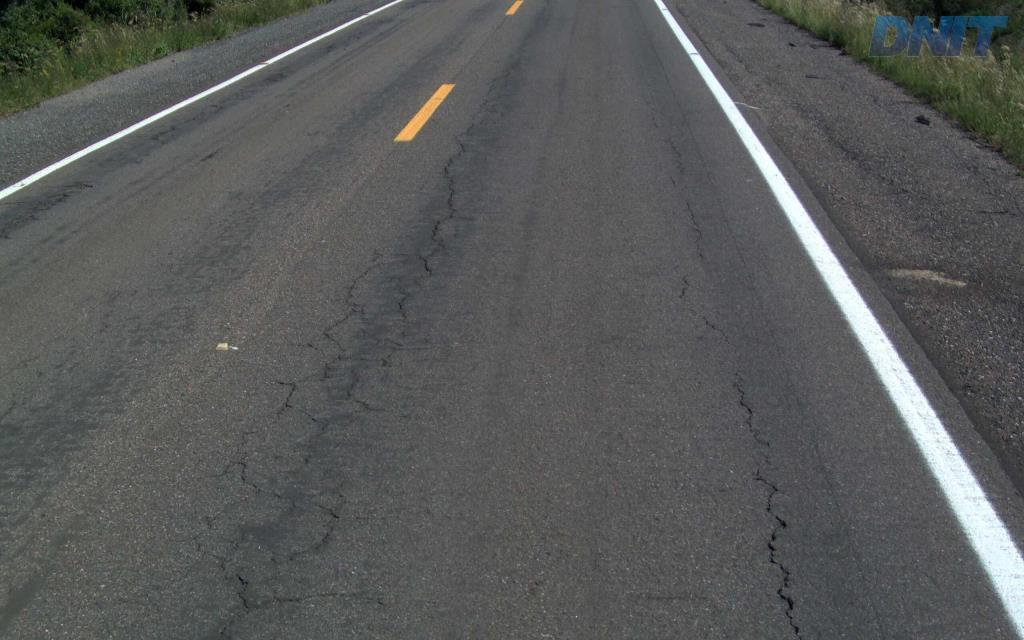crack: (766, 515, 802, 639), (235, 573, 261, 614)
